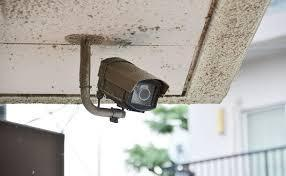Monitor: (76, 29, 181, 138)
